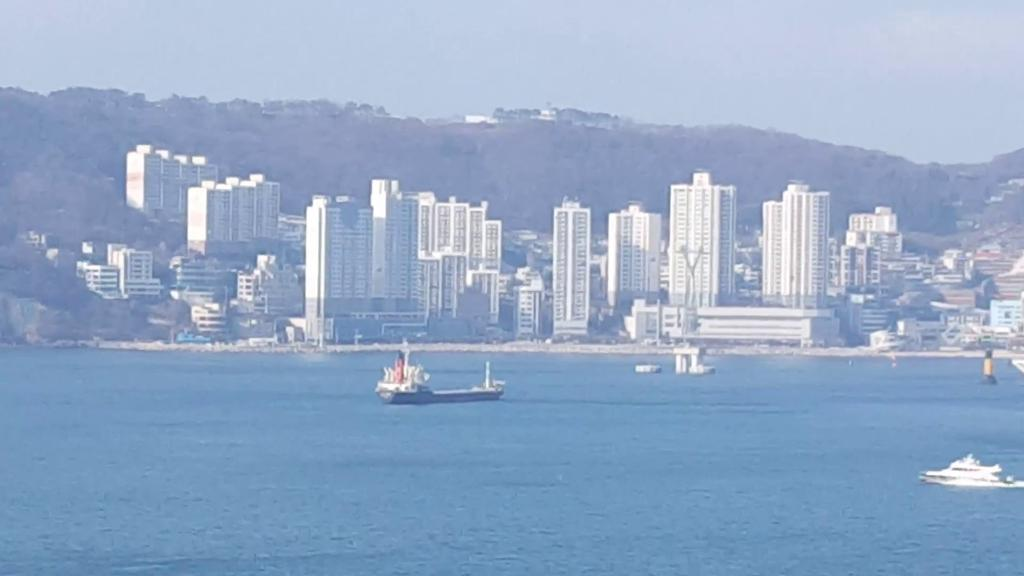PassengerShip: (916, 450, 1024, 494)
